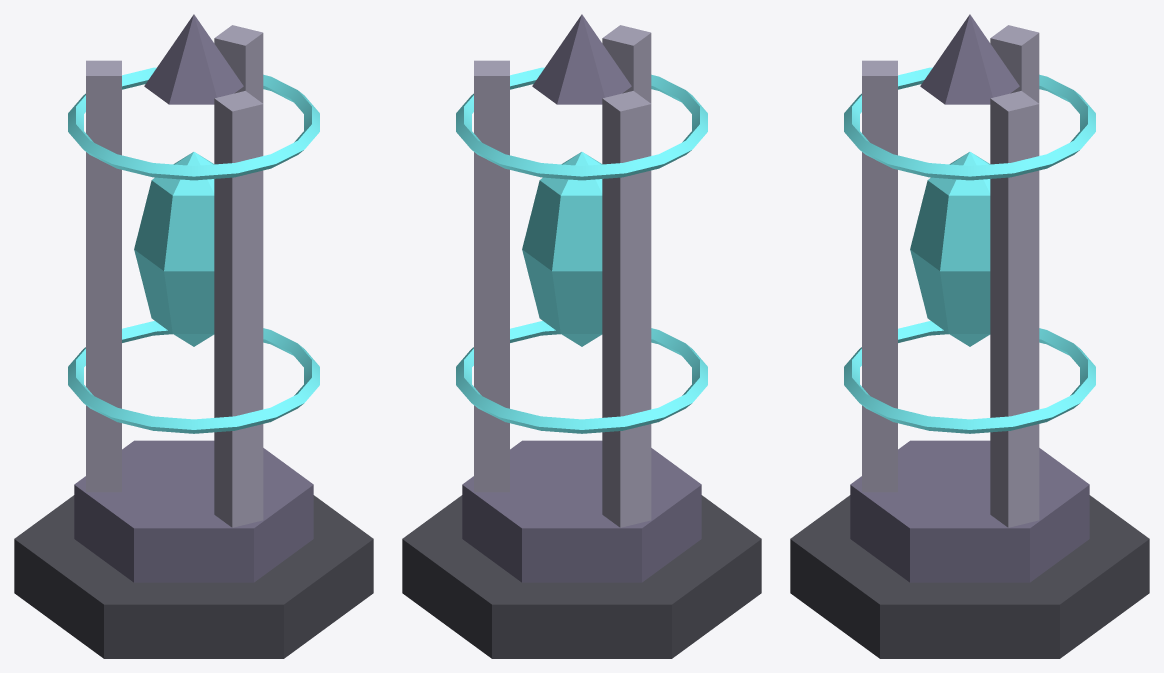
Rendered from sh_pylon_cyan.glb.
The picture shows the model from 3 angles, left to right: view 1: azimuth 30°, elevation 25°; view 2: azimuth 150°, elevation 25°; view 3: azimuth 270°, elevation 25°; orthographic projection.
Parts seen in each view (by area): view 1: sh_pylon_cyan; view 2: sh_pylon_cyan; view 3: sh_pylon_cyan.
Boxes of the visible parts, x1,y1,x2,y2 form: sh_pylon_cyan: (14,14,373,658); sh_pylon_cyan: (402,14,761,658); sh_pylon_cyan: (790,14,1149,658).
Size of the model in its own units: 1.56 by 3.2 by 1.8.
